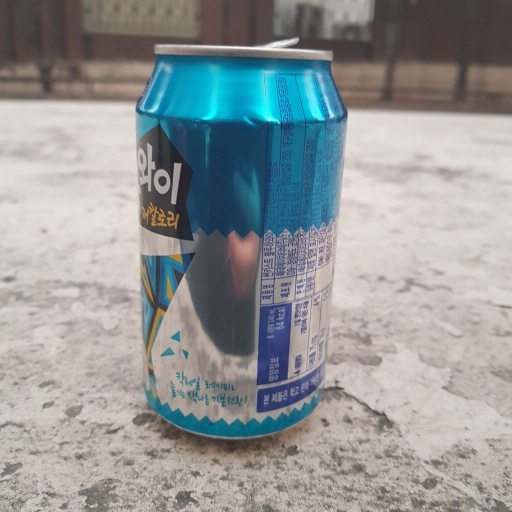Metal_0: (129, 37, 349, 437)
